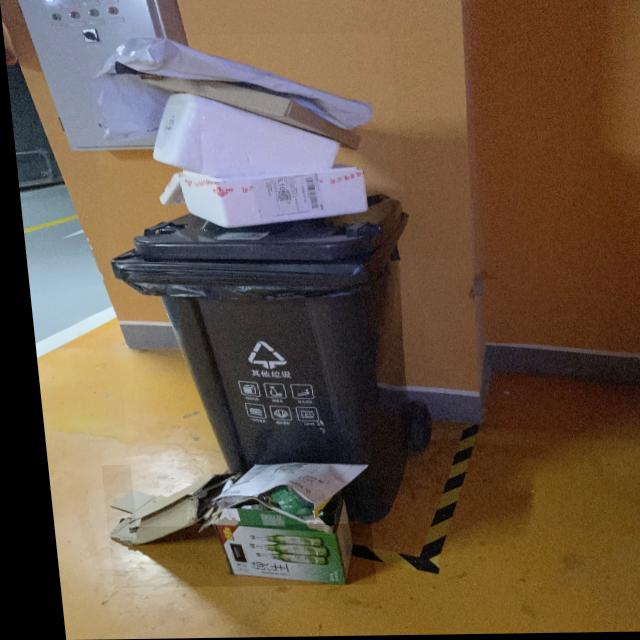garbage: (91, 462, 364, 588)
overflow: (85, 34, 428, 527)
